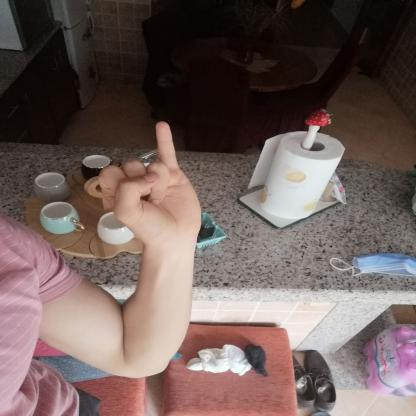MEEM: (81, 114, 215, 253)
